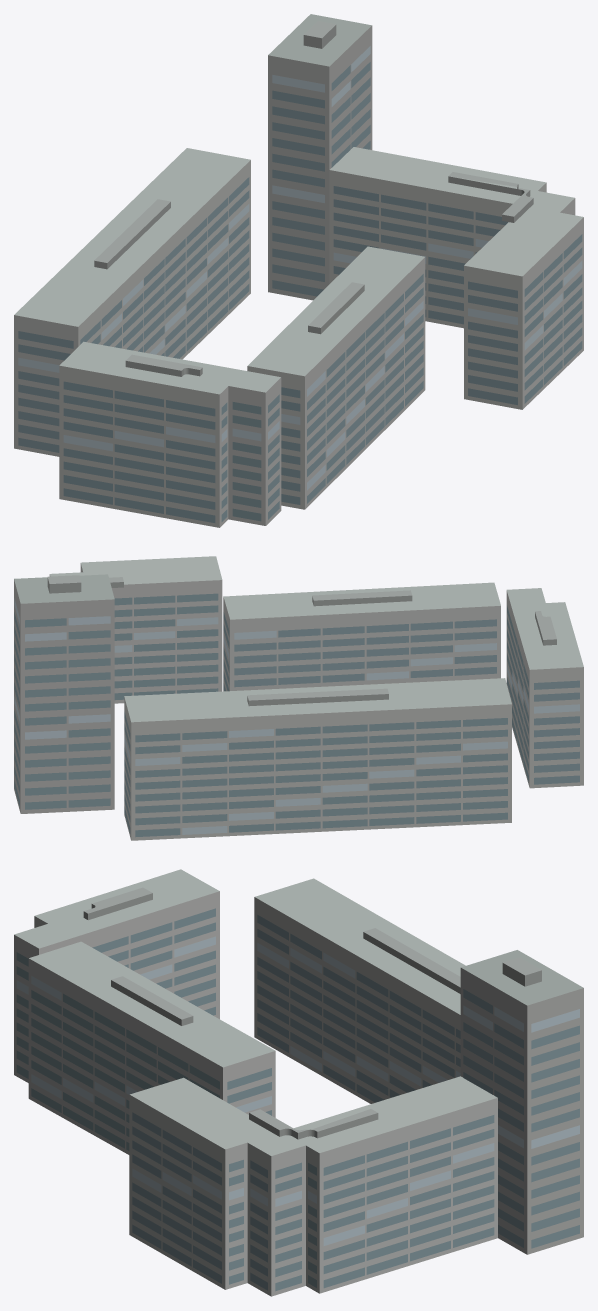
File: apt-a12071103.glb
3 renders of one model, top to bottom at view 1: azimuth 30°, elevation 25°; view 2: azimuth 150°, elevation 25°; view 3: azimuth 270°, elevation 25°, orthographic. The views are drawn at different scales.
Visible parts, largest first — view 1: apt-a12071103; view 2: apt-a12071103; view 3: apt-a12071103.
Part boxes in pixels (x1,y1,x2,y2): apt-a12071103: [14, 14, 583, 527]; apt-a12071103: [14, 556, 583, 840]; apt-a12071103: [14, 869, 583, 1296].
Bounding box in the file's own units: 113 × 47.81 × 94.82.
